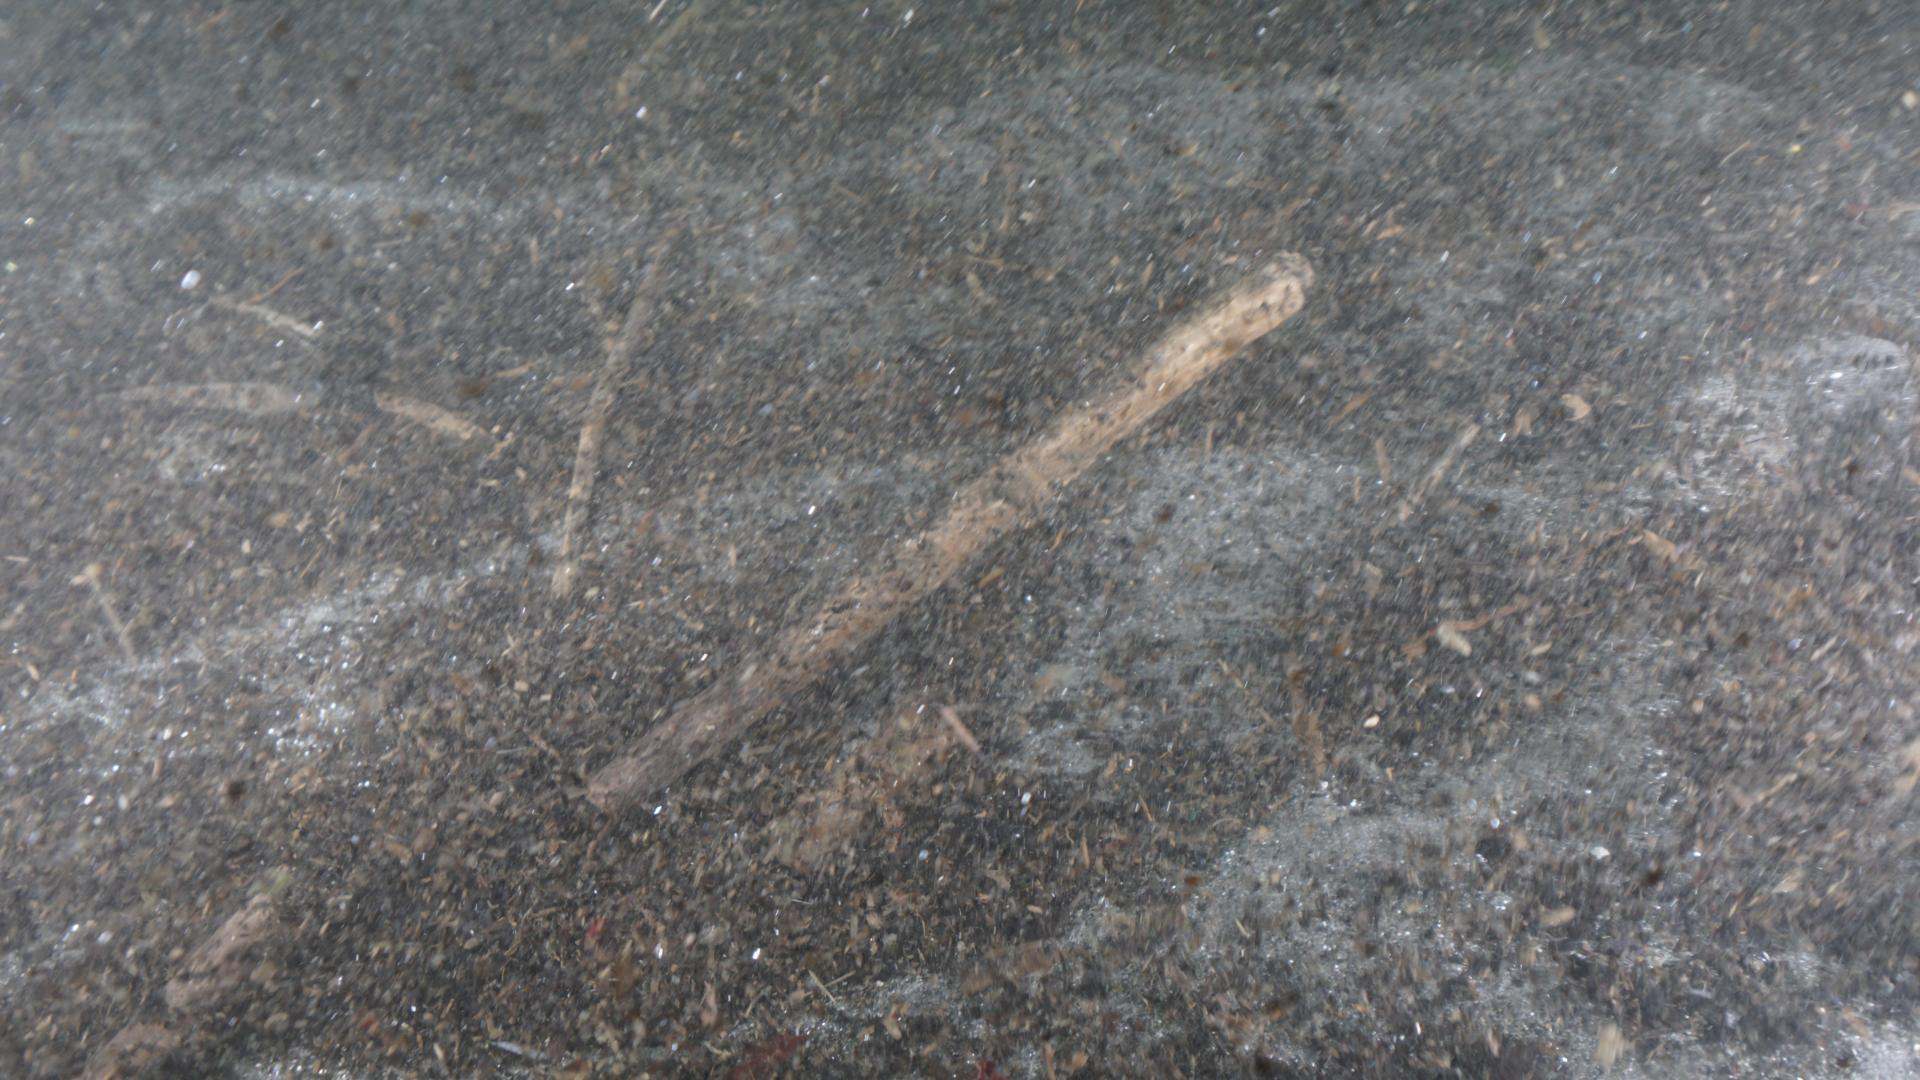wood: (576, 247, 1312, 814)
